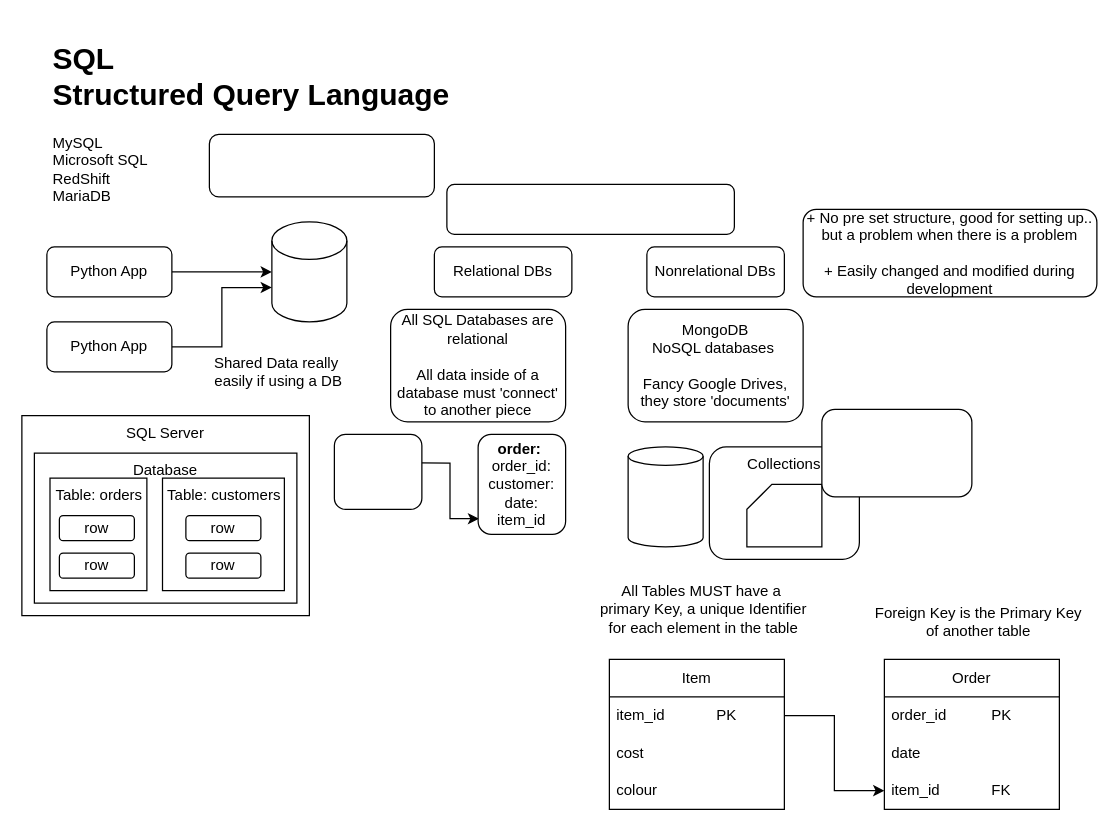
This 1119x831 diagram has some shape labels left out. The shapes that lost their labels are listed below. From the top down, each one's centre as x and y in pixels, then its label:
the point at 321,165: Databases: Persistent Data stores for applications
the point at 590,208: Databases typically take less processing power to run than app counterparts
the point at 309,271: MySQL Server
the point at 377,471: item: item_id: cost: colour:
the point at 896,452: document: Object data, in form of JSON item_name: "" colour: "" cost: ""
the point at 665,496: MongoDB
the point at 784,515: document * 100
